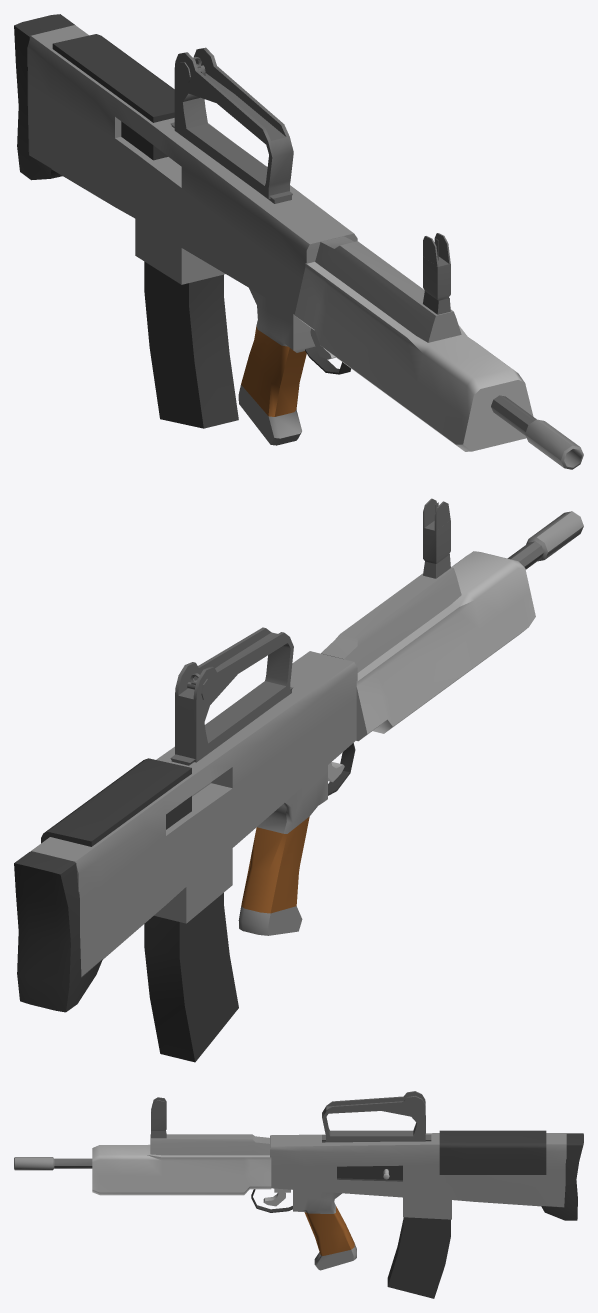
The model's file is 09-Bullpup-rifle.glb.
3 renders of one model, top to bottom at view 1: azimuth 30°, elevation 25°; view 2: azimuth 150°, elevation 25°; view 3: azimuth 270°, elevation 25°, orthographic. The views are drawn at different scales.
Visible parts, largest first — view 1: Bullpup rifle; view 2: Bullpup rifle; view 3: Bullpup rifle.
Part boxes in pixels (box(x1,y1,x2,y2)): Bullpup rifle: box(14, 14, 583, 469); Bullpup rifle: box(14, 498, 583, 1062); Bullpup rifle: box(14, 1091, 583, 1298).
Size of the model in its own units: 0.0754 by 0.3417 by 0.88.
Materials: 1 (1 with a texture image).
